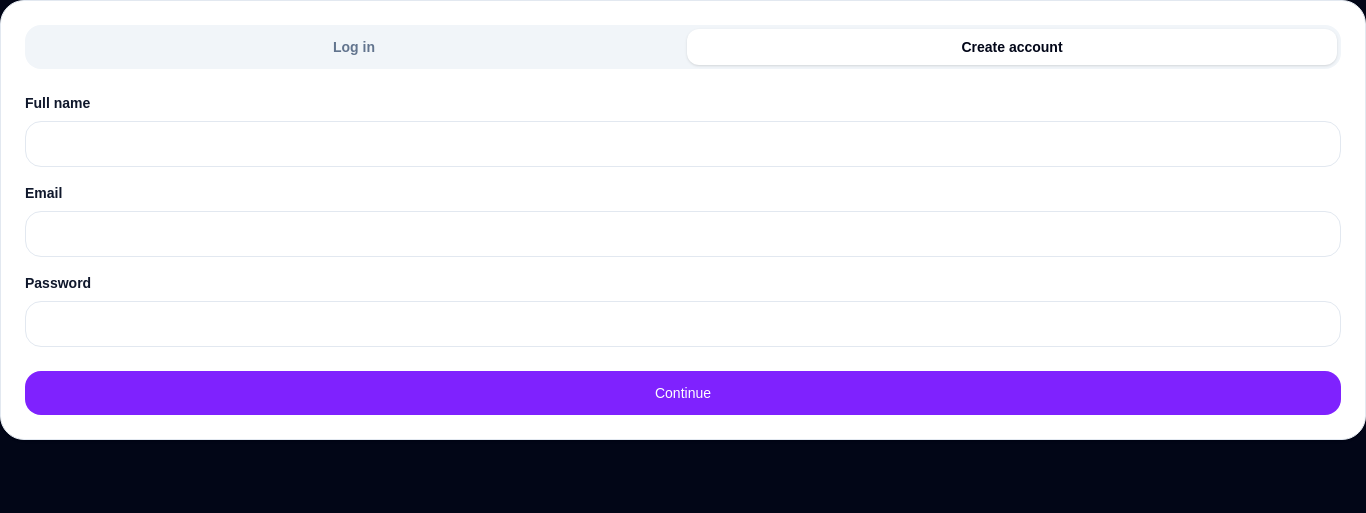
Scenario: AuthForm › shows format and password errors for malformed signup data
Type "QA Tester" into the field labelled "Full name".
click(683, 144); type("QA Tester")  # box [25,121,1341,167]
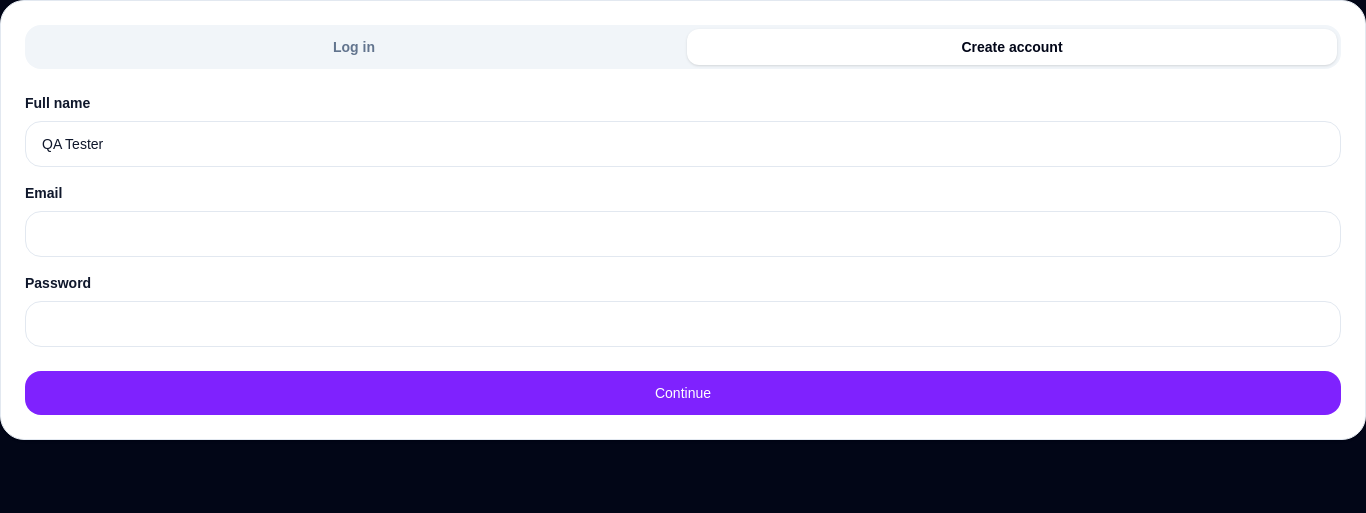
Type "not-an-email" into the field labelled "Email".
click(683, 234); type("not-an-email")  # box [25,211,1341,257]
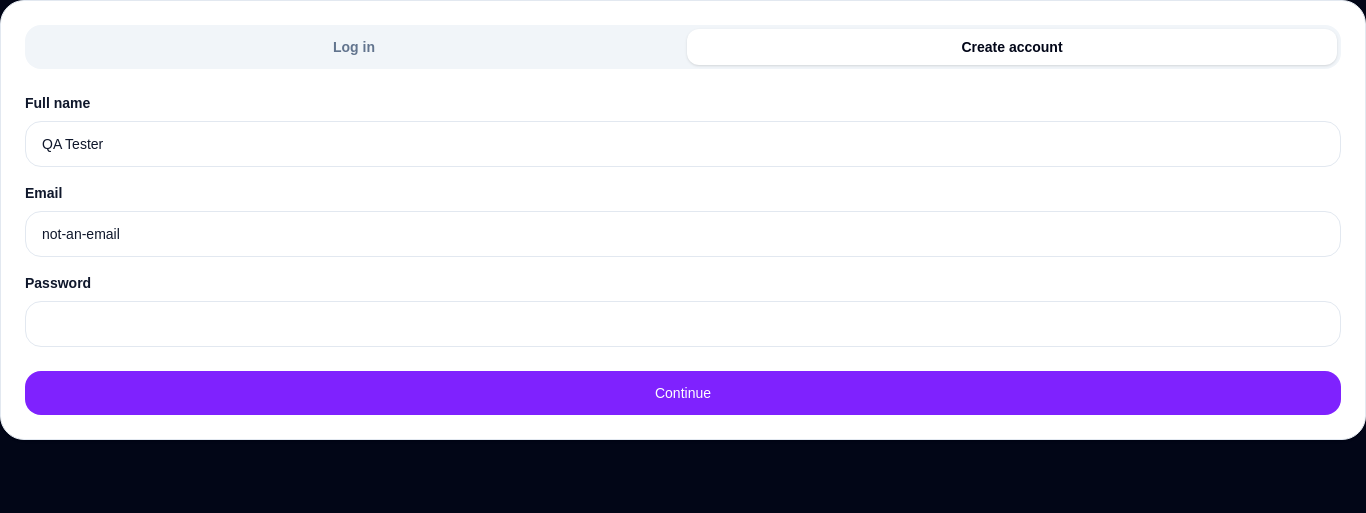
Type "123" into the password field labelled "Password".
click(683, 324); type("123")  # box [25,301,1341,347]
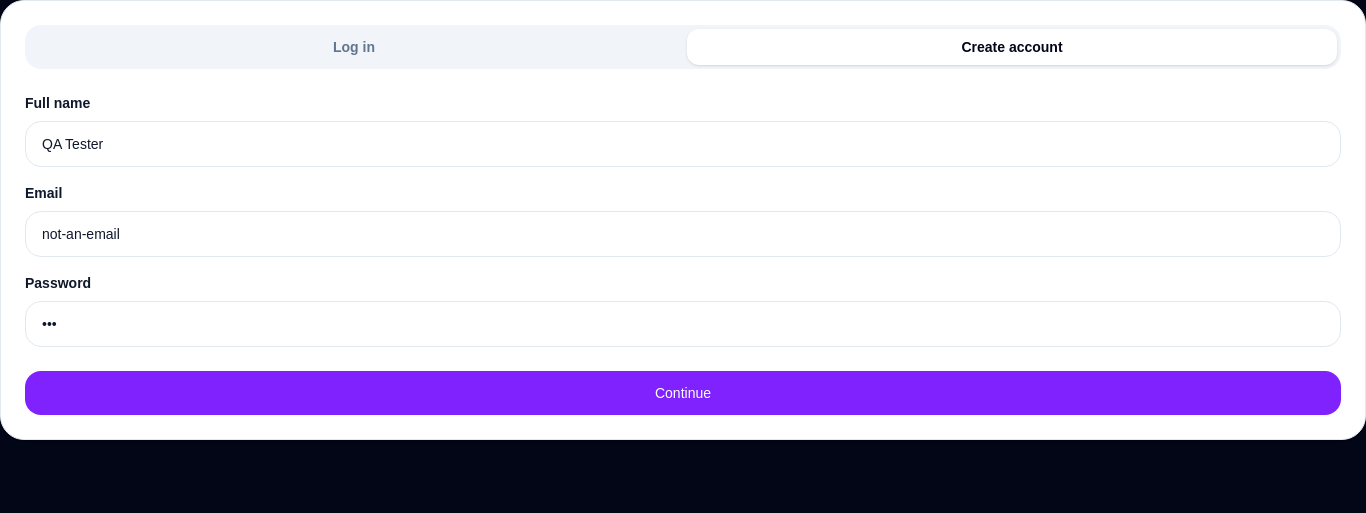
Click the button "Continue".
click(683, 393)  # box [25,371,1341,415]
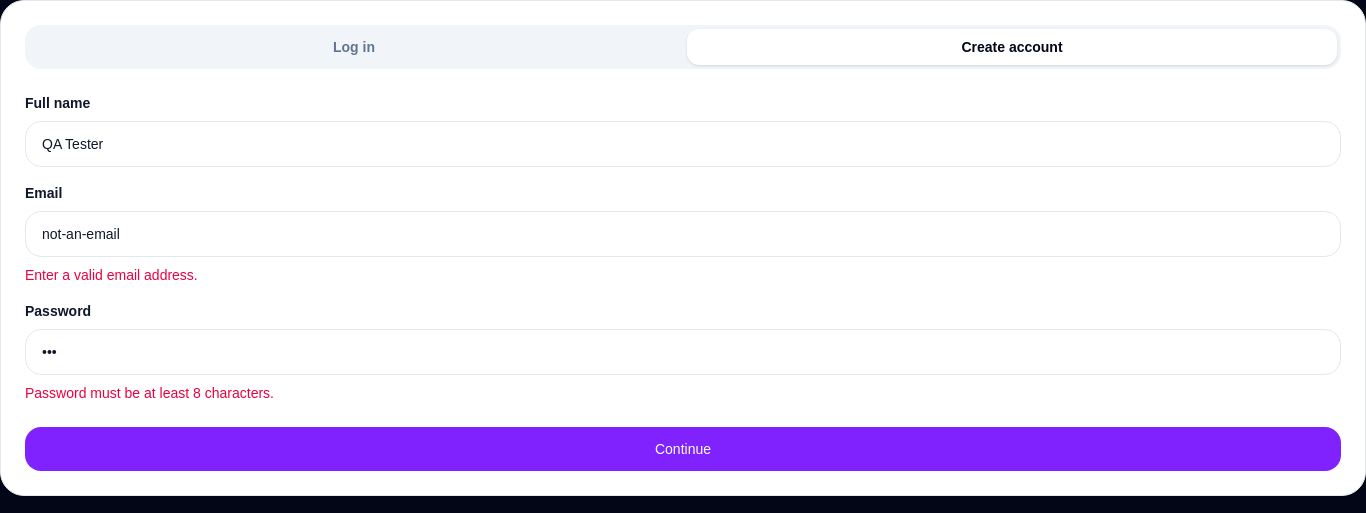
Expected: the text "Enter a valid email address." is shown, [25,267,198,283]
Expected: the text "Password must be at least 8 characters." is shown, [25,385,274,401]
